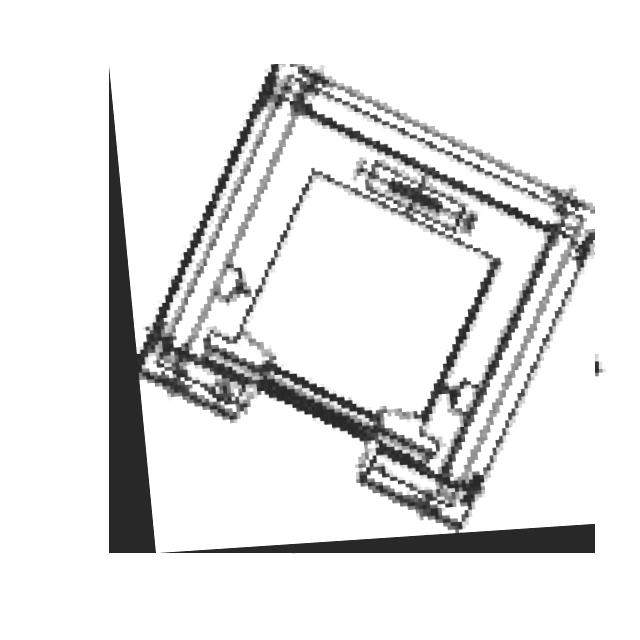lift: (109, 64, 595, 553)
